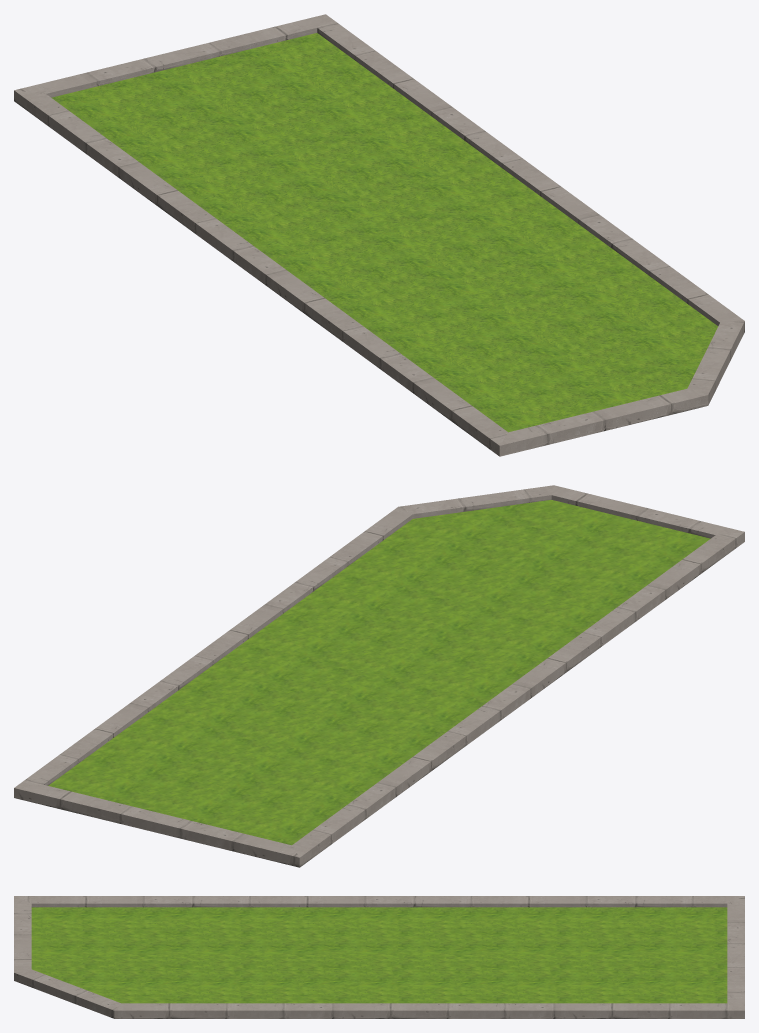
The model's file is GrassTile_O.fbx.
3 views of the same model, one above another, from view 1: azimuth 30°, elevation 25°; view 2: azimuth 150°, elevation 25°; view 3: azimuth 270°, elevation 25° (orthographic). The views are drawn at different scales.
Visible parts, largest first — view 1: GrassTile_O; view 2: GrassTile_O; view 3: GrassTile_O.
Boxes of the visible parts, x1=… form: GrassTile_O: x1=14, y1=14, x2=744, y2=456; GrassTile_O: x1=14, y1=485, x2=744, y2=867; GrassTile_O: x1=14, y1=896, x2=744, y2=1018.
Bounding box in the file's own units: 759 × 25.35 × 2048.
2 materials, 2 textured.
